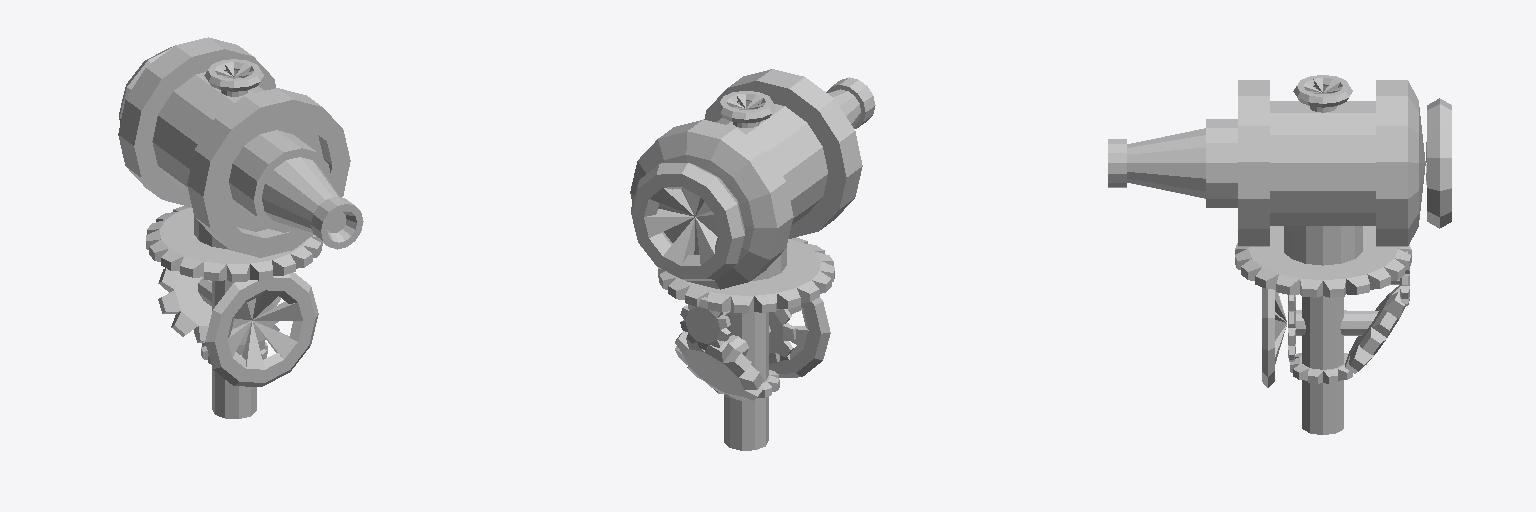
Rendered from TurretTopMesh.obj.
The picture shows the model from 3 angles: view 1: azimuth 30°, elevation 25°; view 2: azimuth 150°, elevation 25°; view 3: azimuth 270°, elevation 25°; orthographic projection.
Visible parts, largest first — view 1: TurretMesh:Turret2; view 2: TurretMesh:Turret2; view 3: TurretMesh:Turret2.
Boxes of the visible parts, x1,y1,x2,y2 form: TurretMesh:Turret2: [118, 37, 363, 418]; TurretMesh:Turret2: [630, 69, 875, 450]; TurretMesh:Turret2: [1108, 75, 1451, 434].
Bounding box in the file's own units: 7.18 × 15.23 × 14.01.